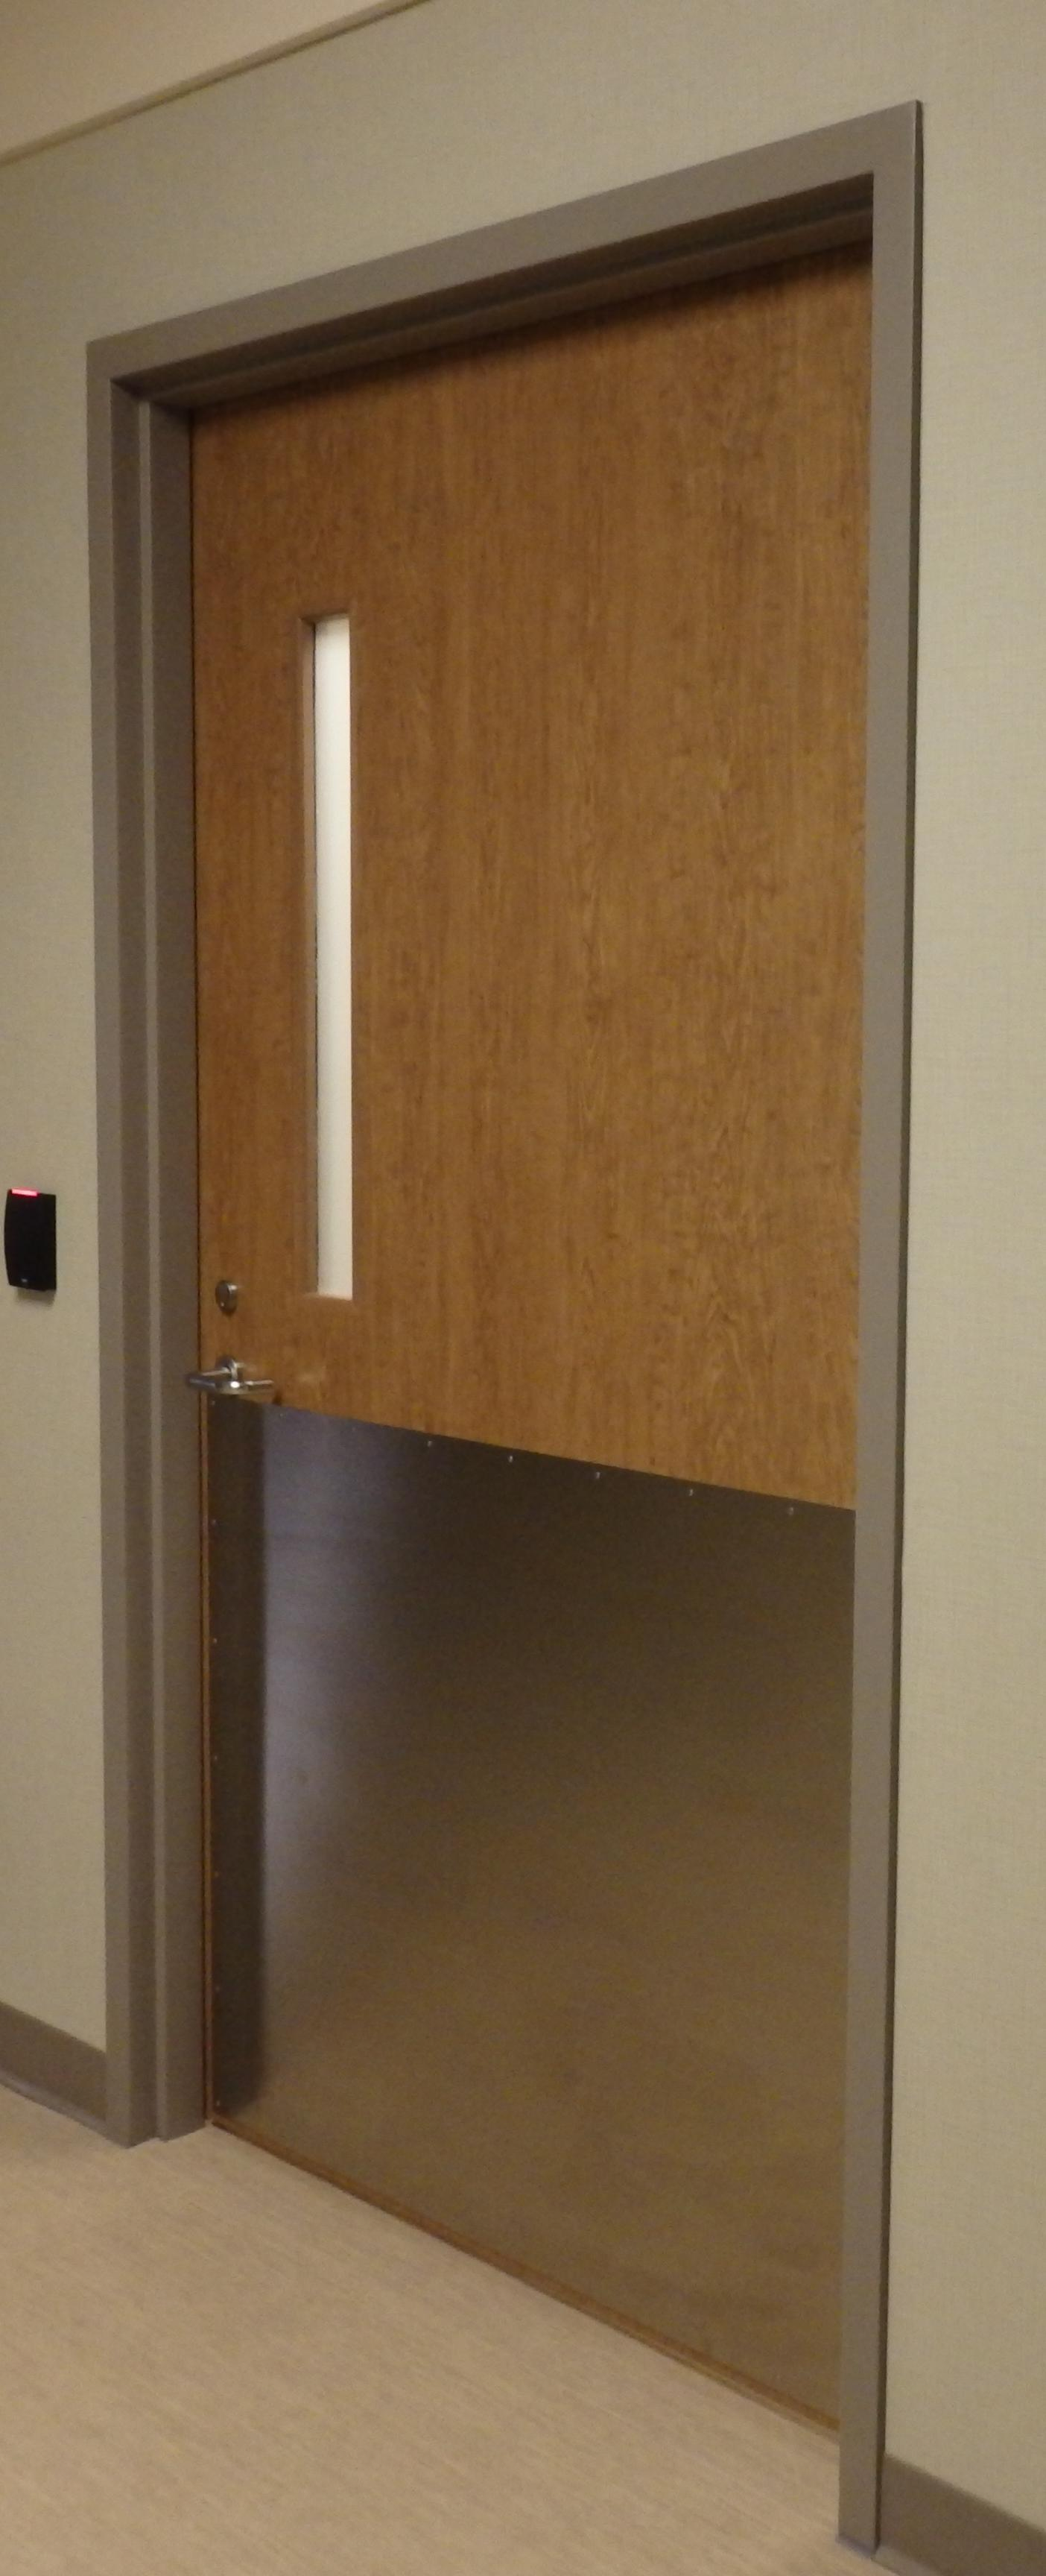door: (84, 179, 883, 2361)
